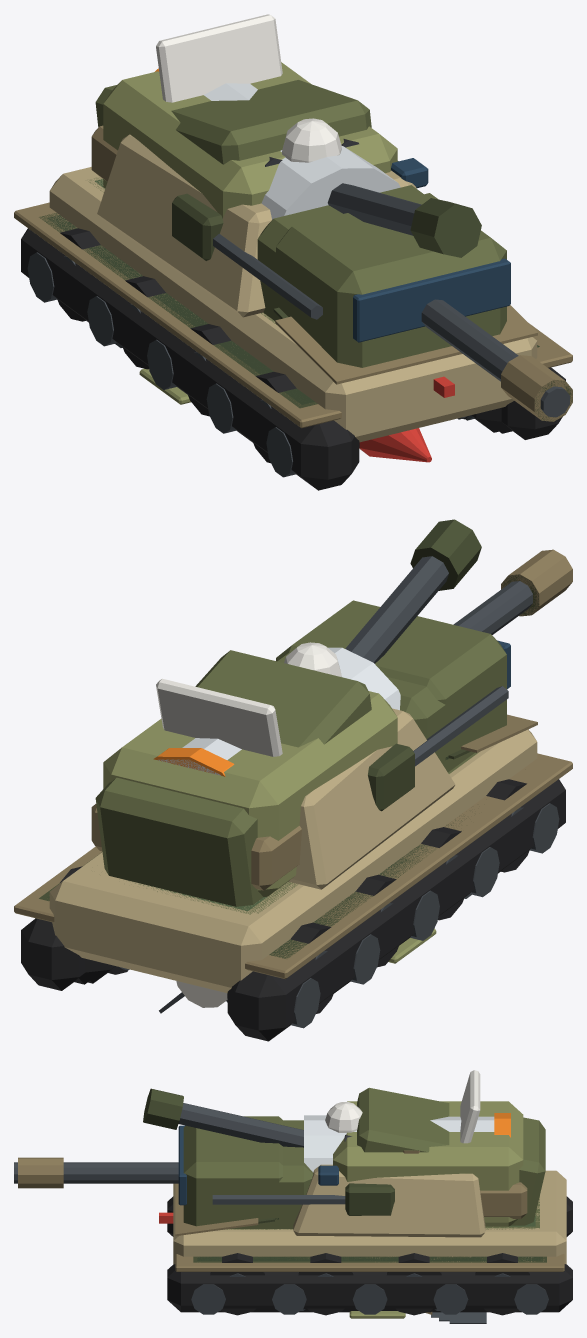
File: FF_Vehicles.fbx
The picture shows the model from 3 angles, top to bottom: view 1: azimuth 30°, elevation 25°; view 2: azimuth 150°, elevation 25°; view 3: azimuth 270°, elevation 25°; orthographic projection. The views are drawn at different scales.
Parts seen in each view (by area): view 1: unit_leclerc__Body, unit_caesar__Body, unit_gepard__Body, unit_truck__Body, unit_himars__Body, fuel_truck__Body, unit_vbci__Body, unit_bmp__Body, unit_leopard__Body, proj_MRBM__Body; view 2: unit_leclerc__Body, unit_himars__Body, unit_caesar__Body, unit_truck__Body, unit_gepard__Body, fuel_truck__Body, unit_vbci__Body, unit_leopard__Body, unit_bmp__Body, proj_MRBM__Body; view 3: unit_leclerc__Body, unit_caesar__Body, unit_truck__Body, unit_himars__Body, unit_gepard__Body, unit_vbci__Body, fuel_truck__Body, unit_leopard__Body, unit_bmp__Body, proj_MRBM__Body, proj_RAPTOR__Body.
Boxes of the visible parts, x1,y1,x2,y2 form: unit_leclerc__Body: (14,125,572,490); unit_caesar__Body: (276,183,510,419); unit_gepard__Body: (39,14,512,433); unit_truck__Body: (103,62,423,320); unit_himars__Body: (95,80,371,166); fuel_truck__Body: (155,68,400,219); unit_vbci__Body: (57,228,296,463); unit_bmp__Body: (47,179,539,447); unit_leopard__Body: (28,253,572,432); proj_MRBM__Body: (359,428,431,462); unit_leclerc__Body: (14,549,572,1041); unit_himars__Body: (95,650,371,906); unit_caesar__Body: (107,519,510,974); unit_truck__Body: (103,653,445,896); unit_gepard__Body: (39,642,508,984); fuel_truck__Body: (153,647,400,776); unit_vbci__Body: (60,752,529,1013); unit_leopard__Body: (295,574,539,1027); unit_bmp__Body: (47,756,466,998); proj_MRBM__Body: (159,981,227,1013); unit_leclerc__Body: (14,1150,572,1314); unit_caesar__Body: (143,1088,303,1228); unit_truck__Body: (221,1101,523,1228); unit_himars__Body: (344,1087,545,1225); unit_gepard__Body: (193,1070,546,1310); unit_vbci__Body: (210,1228,535,1315); fuel_truck__Body: (304,1113,510,1172); unit_leopard__Body: (191,1150,547,1314); unit_bmp__Body: (197,1214,542,1260); proj_MRBM__Body: (449,1312,486,1323); proj_RAPTOR__Body: (349,1311,405,1318).
Size of the model in its own units: 5.15 by 5.88 by 13.5.
1 material, 1 textured.
